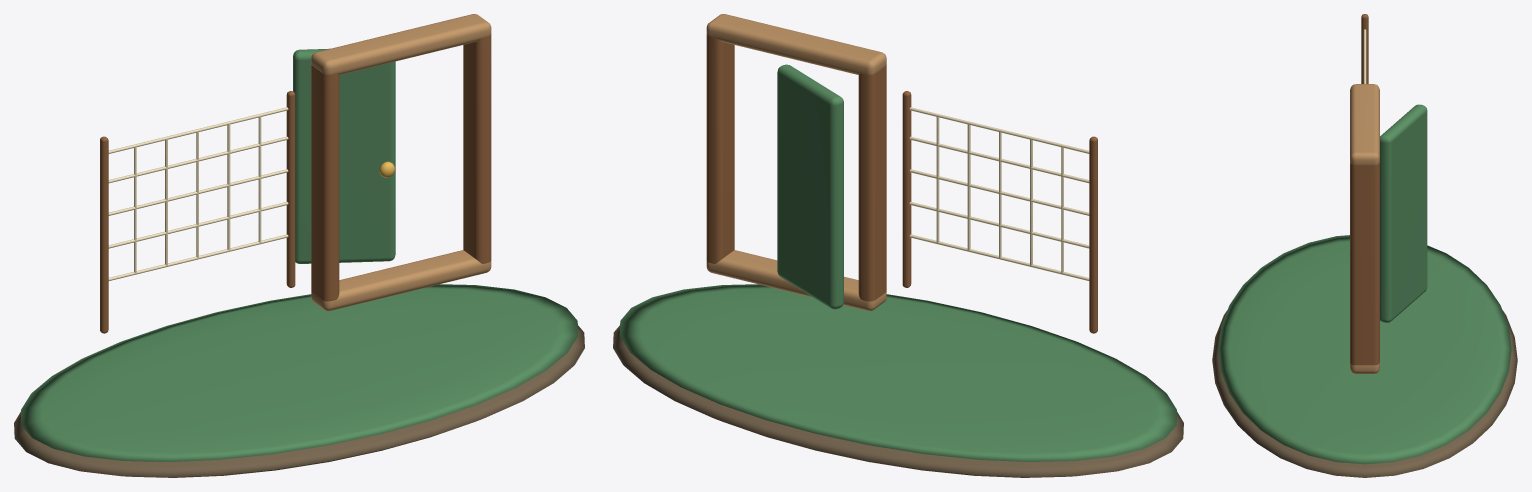
Rendered from network-station.glb.
3 renders of one model, left to right at view 1: azimuth 30°, elevation 25°; view 2: azimuth 150°, elevation 25°; view 3: azimuth 270°, elevation 25°, orthographic. The views are drawn at different scales.
Parts seen in each view (by area): view 1: network-station_surface_01, network-station_surface_02, network-station_surface_00, network-station_surface_04, network-station_surface_03; view 2: network-station_surface_01, network-station_surface_02, network-station_surface_00, network-station_surface_04, network-station_surface_03; view 3: network-station_surface_01, network-station_surface_02, network-station_surface_00, network-station_surface_04.
Part boxes in pixels (<box>): network-station_surface_01: <box>21,48,577,461</box>; network-station_surface_02: <box>100,34,491,333</box>; network-station_surface_00: <box>14,325,584,477</box>; network-station_surface_04: <box>311,14,491,310</box>; network-station_surface_03: <box>108,107,288,280</box>; network-station_surface_01: <box>620,64,1176,461</box>; network-station_surface_02: <box>706,34,1097,333</box>; network-station_surface_00: <box>613,325,1183,477</box>; network-station_surface_04: <box>706,14,886,310</box>; network-station_surface_03: <box>909,107,1089,280</box>; network-station_surface_01: <box>1218,104,1511,464</box>; network-station_surface_02: <box>1350,14,1379,365</box>; network-station_surface_00: <box>1212,310,1517,477</box>; network-station_surface_04: <box>1350,84,1379,373</box>.
Size of the model in its own units: 4.56 by 2.71 by 2.5.
